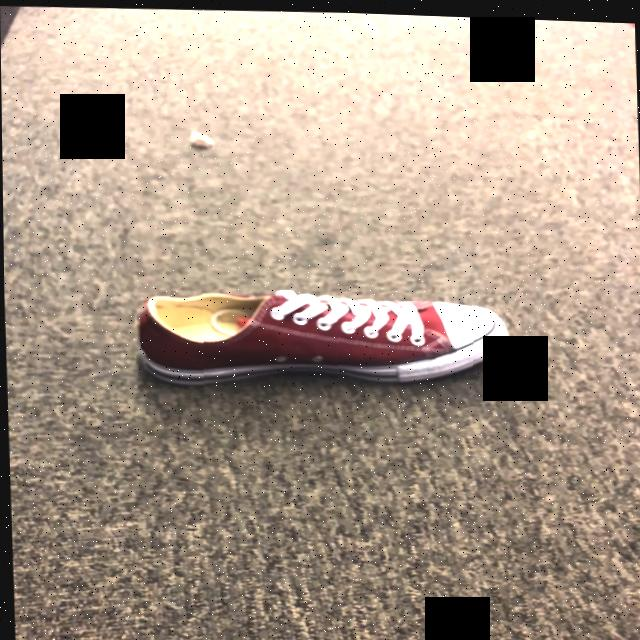shoe: (134, 288, 505, 387)
